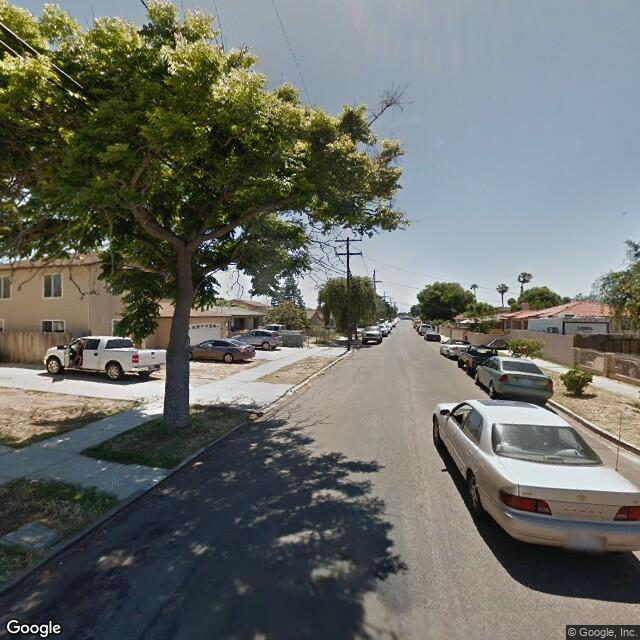litter: (305, 381, 313, 387), (319, 370, 326, 375), (58, 560, 63, 567)
